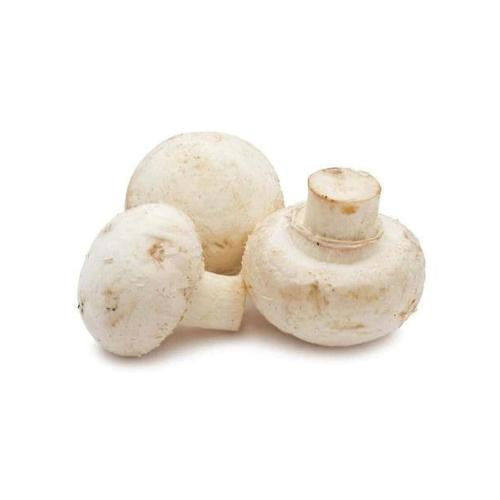Button Mushroom: (215, 144, 461, 389), (57, 185, 254, 368), (113, 98, 304, 285)
